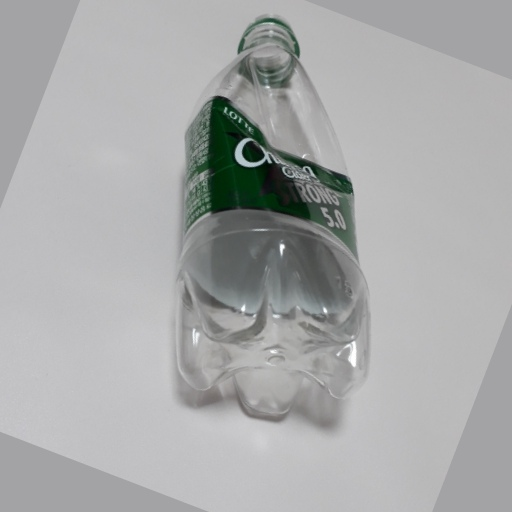Plastic_0: (177, 12, 370, 429)
